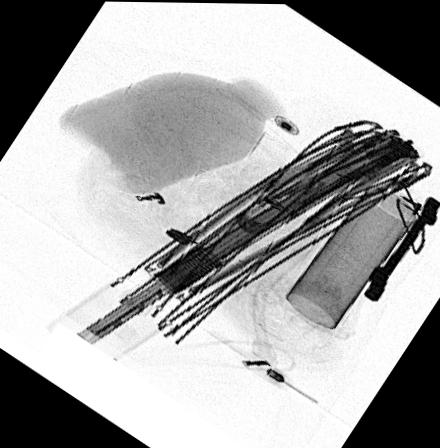Wrench: (359, 191, 440, 302)
